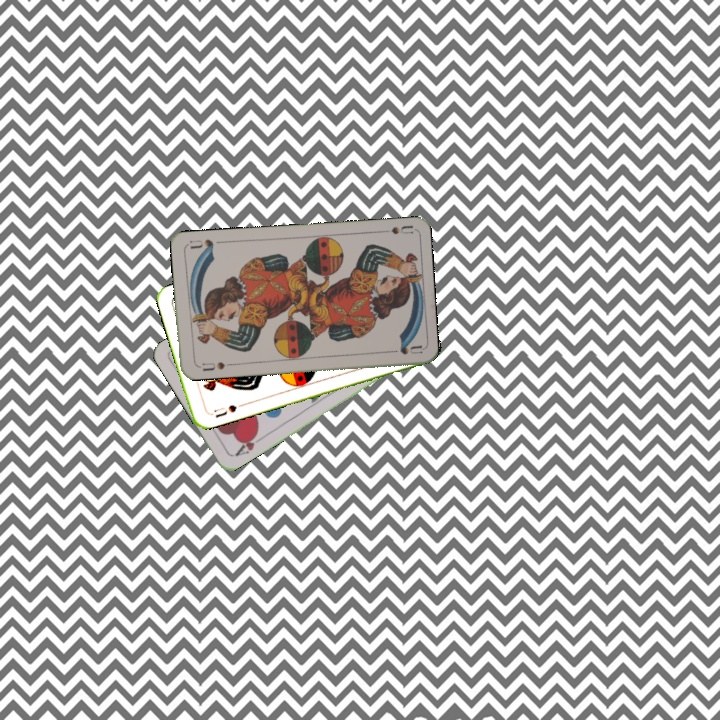HA: (230, 428, 266, 459)
SU: (205, 400, 245, 420), (374, 221, 414, 237), (198, 358, 227, 374)
